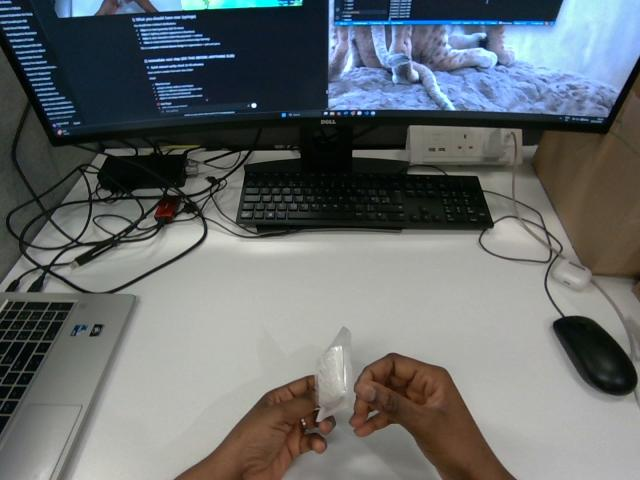gauze: (315, 327, 352, 421)
